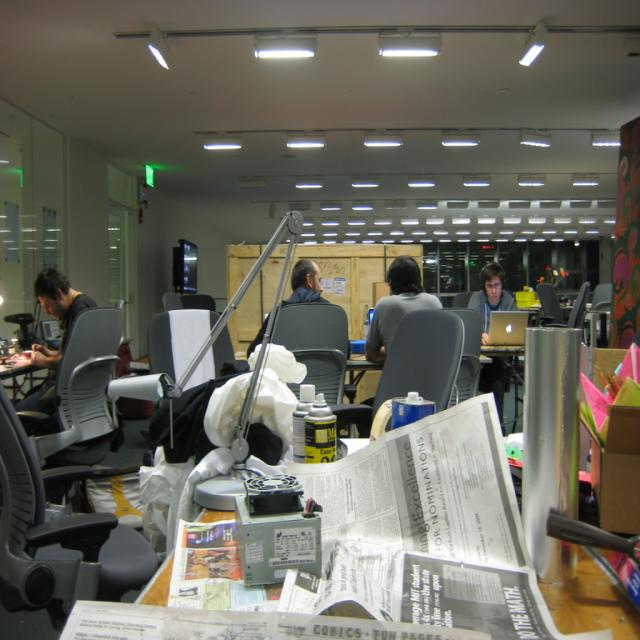chair: (0, 383, 118, 619), (18, 308, 125, 506), (366, 308, 466, 442), (447, 308, 483, 406), (293, 348, 349, 408), (566, 280, 591, 329), (536, 284, 564, 324)
desk: (136, 436, 640, 640)
laptop: (487, 311, 529, 346)
person: (12, 266, 98, 412), (250, 259, 351, 365), (364, 256, 444, 366), (468, 262, 518, 336)
